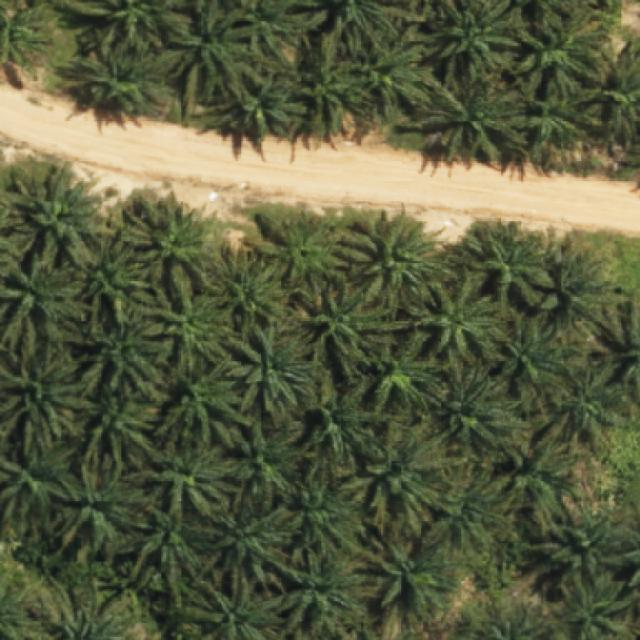Kelapa_Sawit: (338, 203, 457, 322), (288, 268, 410, 384), (124, 476, 224, 610), (191, 493, 311, 602), (484, 410, 587, 535), (61, 25, 190, 120), (421, 60, 530, 171), (353, 417, 449, 543), (44, 451, 156, 558), (5, 159, 111, 270), (163, 0, 259, 117), (420, 358, 534, 456), (65, 298, 167, 404), (121, 187, 219, 295), (144, 429, 248, 528), (214, 414, 315, 515), (518, 511, 630, 602), (225, 321, 313, 432), (461, 214, 557, 315), (490, 310, 581, 416), (348, 18, 440, 122), (144, 280, 242, 377), (154, 354, 252, 451), (360, 526, 460, 620), (199, 63, 315, 143), (266, 457, 359, 554), (510, 11, 608, 103), (285, 31, 367, 140), (415, 272, 510, 366), (416, 458, 510, 553), (270, 547, 365, 639), (206, 244, 302, 334), (547, 351, 630, 455), (68, 382, 164, 471), (65, 225, 152, 322), (257, 208, 354, 290), (534, 230, 612, 325), (295, 377, 377, 461), (509, 71, 589, 155)
